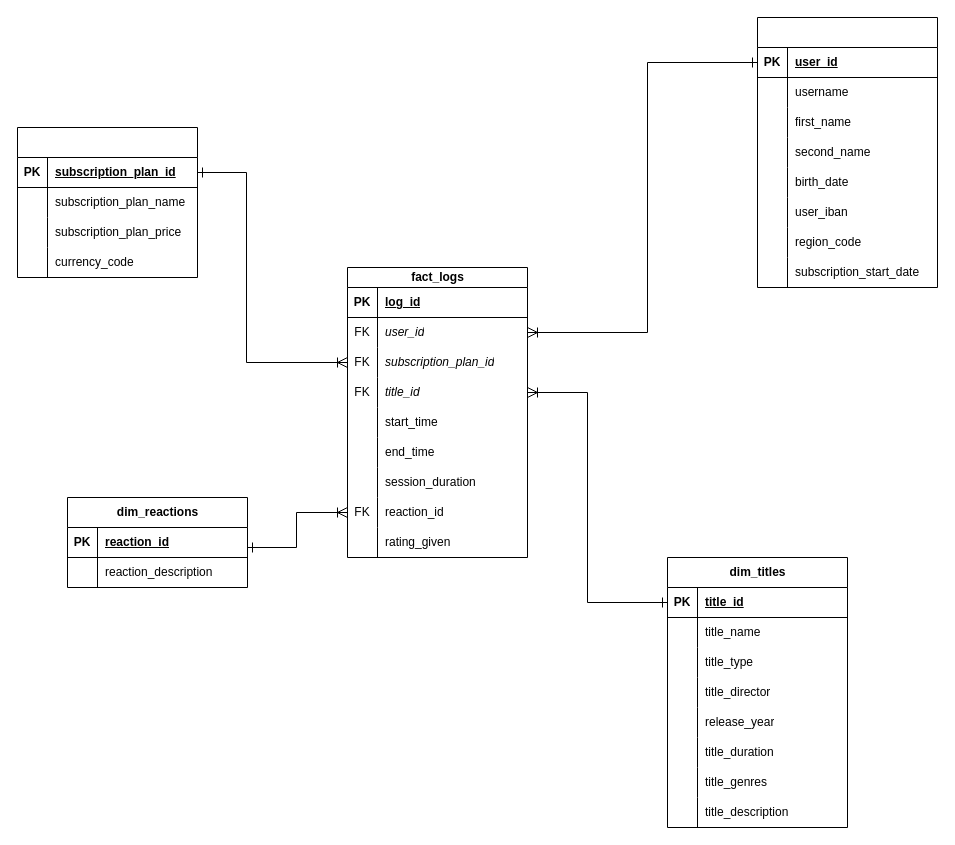
Image size: 955x845. Some labels were removed from this diagram. Each missing label, with the box of its shape:
dim_subscriptions: (16, 126, 198, 278)
dim_users: (756, 16, 938, 288)
